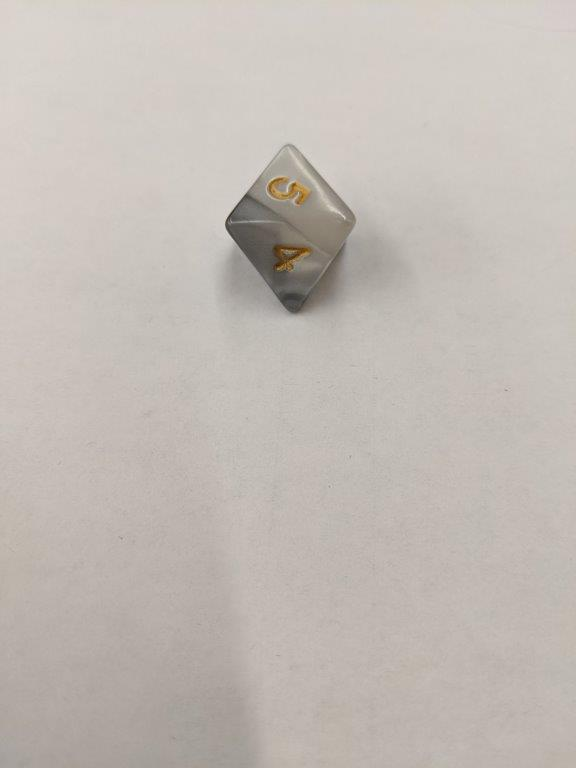d8-5: (223, 142, 362, 315)
